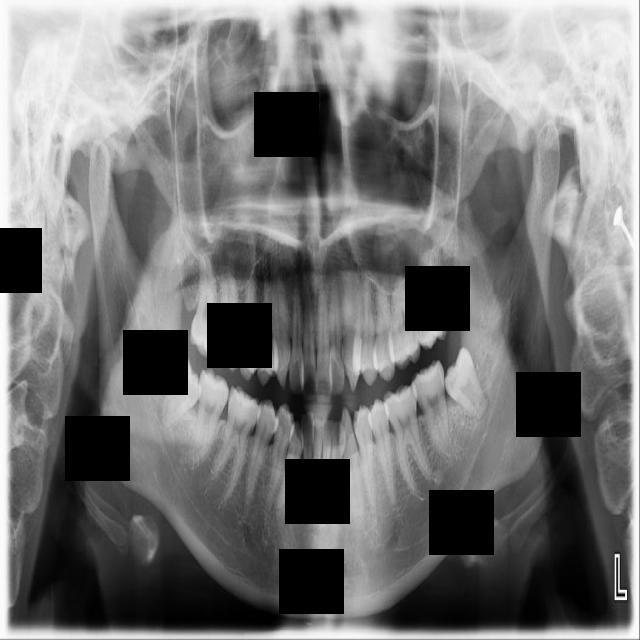73: (624, 612, 634, 624)
BioHorizons Implant: (413, 239, 448, 351)
Biomet 3i Implant: (434, 344, 493, 427)
Blue Sky Bio Implant: (408, 360, 456, 466)
Caries: (189, 249, 216, 359)
Implant: (189, 368, 232, 469)
Keystone Dental Implant: (154, 354, 213, 435)
